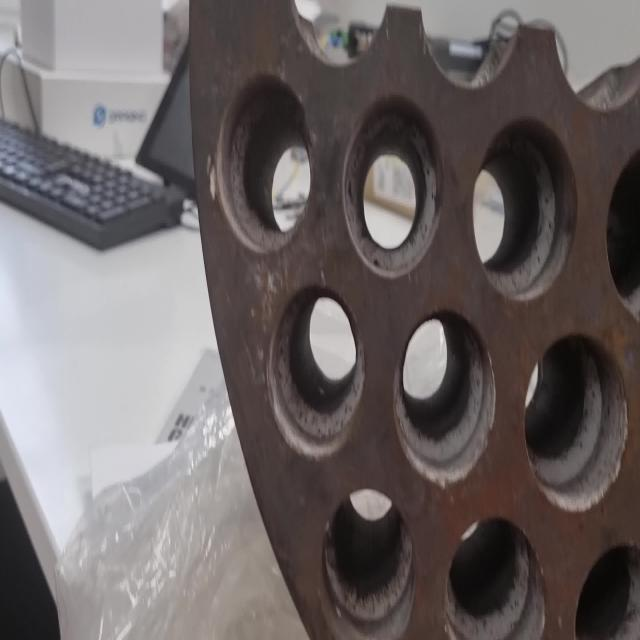Hole: (470, 114, 578, 300), (522, 331, 630, 513), (392, 305, 496, 488), (341, 91, 442, 279), (211, 72, 315, 254), (266, 283, 365, 459), (320, 490, 416, 640), (444, 515, 548, 639)
